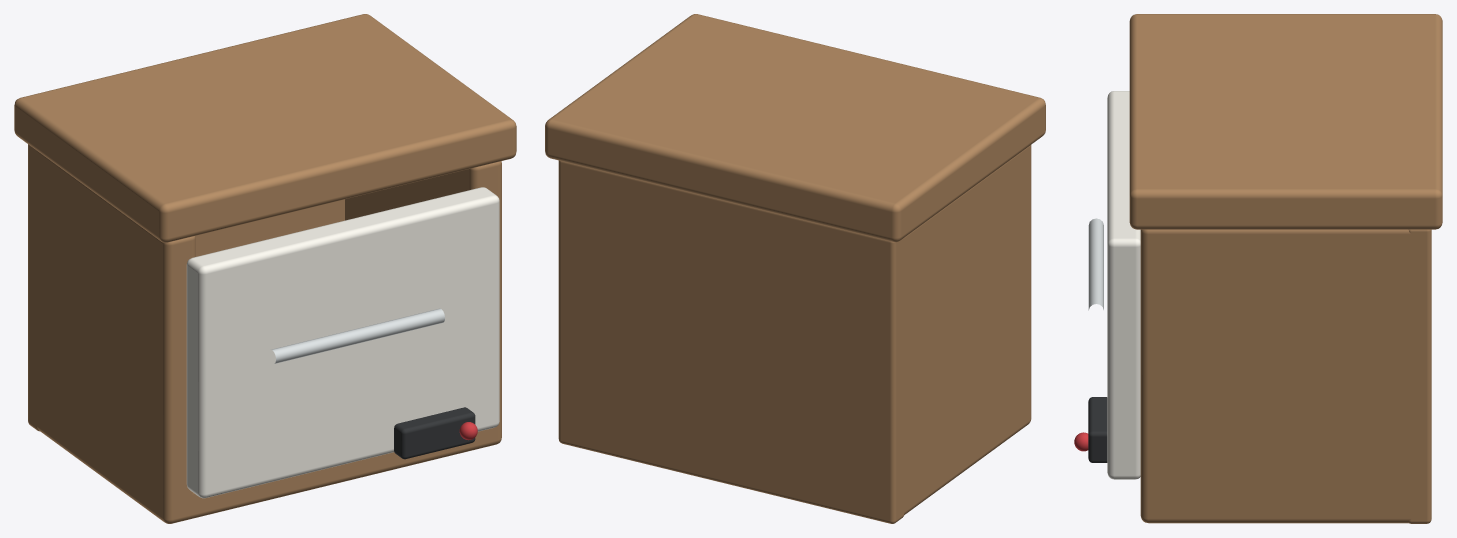
The model's file is barbershop-and-hair-salon-towel-warmer-d71e5504__29650.glb.
3 views of the same model, side by side, from view 1: azimuth 30°, elevation 25°; view 2: azimuth 150°, elevation 25°; view 3: azimuth 270°, elevation 25° (orthographic). The views are drawn at different scales.
Visible parts, largest first — view 1: towel-warmer; view 2: towel-warmer; view 3: towel-warmer.
Part boxes in pixels (box(x1,y1,x2,y2)): towel-warmer: box(14, 14, 516, 523); towel-warmer: box(545, 14, 1045, 523); towel-warmer: box(1074, 14, 1442, 523).
Bounding box in the file's own units: 0.675 × 0.59 × 0.5825.
